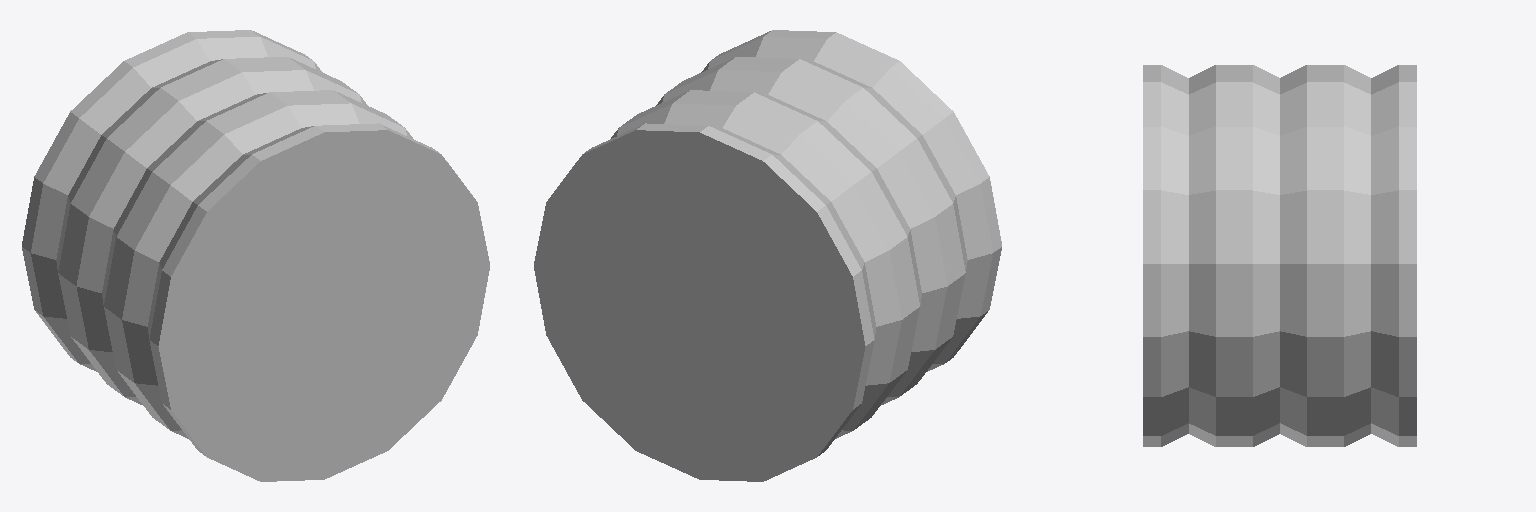
File: Spacestation_Structure_Ribbed_Round.obj
The picture shows the model from 3 angles: view 1: azimuth 30°, elevation 25°; view 2: azimuth 150°, elevation 25°; view 3: azimuth 270°, elevation 25°; orthographic projection.
Parts seen in each view (by area): view 1: object1; view 2: object1; view 3: object1.
Boxes of the visible parts, x1=… form: object1: x1=22, y1=30, x2=489, y2=481; object1: x1=534, y1=30, x2=1001, y2=481; object1: x1=1143, y1=65, x2=1416, y2=446.
Size of the model in its own units: 1.4 by 1.4 by 1.